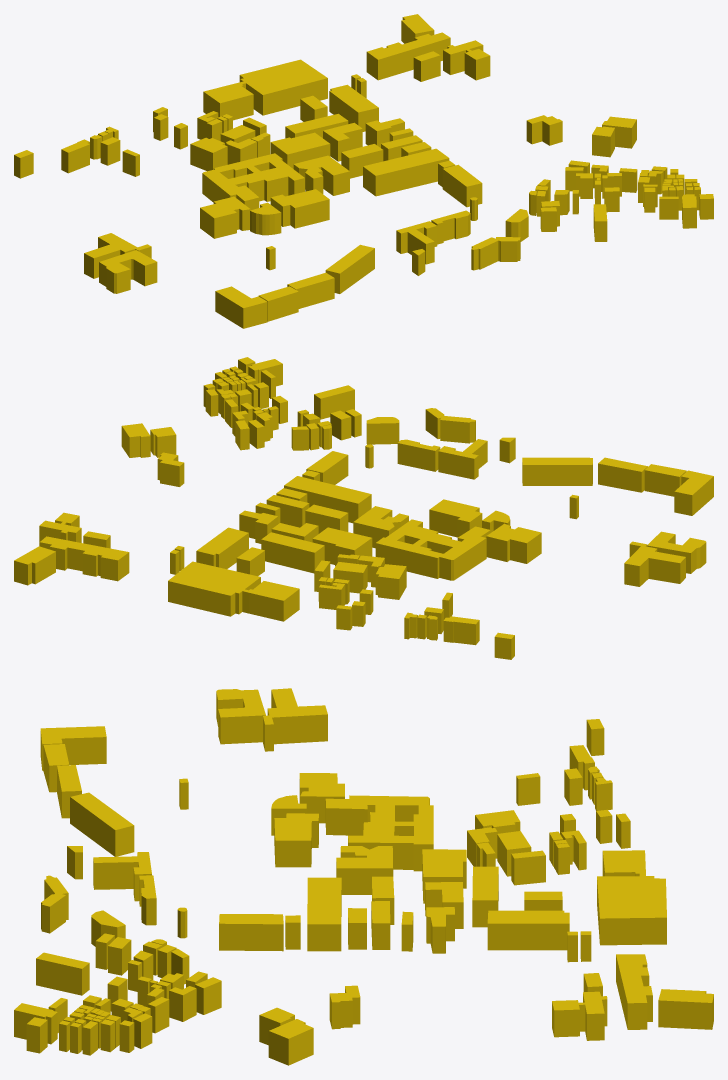
Rendered from City.fbx.
3 renders of one model, top to bottom at view 1: azimuth 30°, elevation 25°; view 2: azimuth 150°, elevation 25°; view 3: azimuth 270°, elevation 25°, orthographic. The views are drawn at different scales.
Visible parts, largest first — view 1: map.osm.001, 本館.001, 1号館.001, グリーンハイツ武蔵境通り４号棟.001, 武蔵野大学図書館.001, ７号館.001, 6号館.001, 第１体育館.001, シュロス武蔵野.001, ５号館.001, グリーンハイツ武蔵境通り６号棟.001, 第２体育館.001 (+7 smaller); view 2: map.osm.001, 本館.001, 1号館.001, ８号館.001, ７号館.001, グリーンハイツ武蔵境通り４号棟.001, 6号館.001, シュロス武蔵野.001, グリーンハイツ武蔵境通り６号棟.001, 武蔵野大学図書館.001, 第１体育館.001, グリーンハイツ武蔵境通り５号棟.001 (+7 smaller); view 3: map.osm.001, 本館.001, ７号館.001, 1号館.001, ５号館.001, 武蔵野大学図書館.001, グリーンハイツ武蔵境通り４号棟.001, 第１体育館.001, 6号館.001, ８号館.001, シュロス武蔵野.001, ４号館.001 (+9 smaller).
Part boxes in pixels (x1=…): map.osm.001: x1=14, y1=14, x2=713, y2=293; 本館.001: x1=239, y1=59, x2=327, y2=115; 1号館.001: x1=363, y1=148, x2=449, y2=196; グリーンハイツ武蔵境通り４号棟.001: x1=215, y1=286, x2=267, y2=328; 武蔵野大学図書館.001: x1=293, y1=155, x2=349, y2=195; ７号館.001: x1=329, y1=84, x2=378, y2=131; 6号館.001: x1=270, y1=132, x2=330, y2=168; 第１体育館.001: x1=281, y1=189, x2=329, y2=228; シュロス武蔵野.001: x1=471, y1=237, x2=520, y2=270; ５号館.001: x1=442, y1=164, x2=482, y2=207; グリーンハイツ武蔵境通り６号棟.001: x1=287, y1=272, x2=334, y2=308; 第２体育館.001: x1=190, y1=137, x2=227, y2=171; map.osm.001: x1=14, y1=357, x2=706, y2=659; 本館.001: x1=168, y1=561, x2=260, y2=616; 1号館.001: x1=284, y1=476, x2=371, y2=523; ８号館.001: x1=261, y1=532, x2=324, y2=573; ７号館.001: x1=196, y1=527, x2=248, y2=569; グリーンハイツ武蔵境通り４号棟.001: x1=674, y1=470, x2=713, y2=515; 6号館.001: x1=312, y1=527, x2=372, y2=566; シュロス武蔵野.001: x1=425, y1=408, x2=475, y2=443; グリーンハイツ武蔵境通り６号棟.001: x1=598, y1=457, x2=647, y2=492; 武蔵野大学図書館.001: x1=353, y1=506, x2=408, y2=548; 第１体育館.001: x1=429, y1=499, x2=479, y2=537; グリーンハイツ武蔵境通り５号棟.001: x1=644, y1=464, x2=686, y2=496; map.osm.001: x1=14, y1=688, x2=713, y2=1065; 本館.001: x1=597, y1=876, x2=666, y2=945; ７号館.001: x1=487, y1=910, x2=569, y2=950; 1号館.001: x1=307, y1=877, x2=341, y2=951; ５号館.001: x1=219, y1=914, x2=283, y2=951; 武蔵野大学図書館.001: x1=336, y1=846, x2=393, y2=894; グリーンハイツ武蔵境通り４号棟.001: x1=40, y1=726, x2=106, y2=770; 第１体育館.001: x1=274, y1=818, x2=311, y2=867; 6号館.001: x1=422, y1=849, x2=466, y2=903; ８号館.001: x1=472, y1=866, x2=498, y2=927; シュロス武蔵野.001: x1=41, y1=875, x2=68, y2=933; ４号館.001: x1=425, y1=882, x2=463, y2=928.
Bounding box in the file's own units: 71973 × 2668 × 60727.
